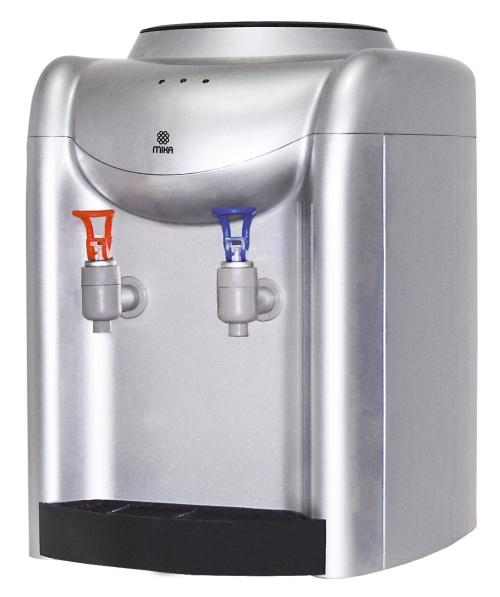Dispenser: (26, 21, 477, 579)
